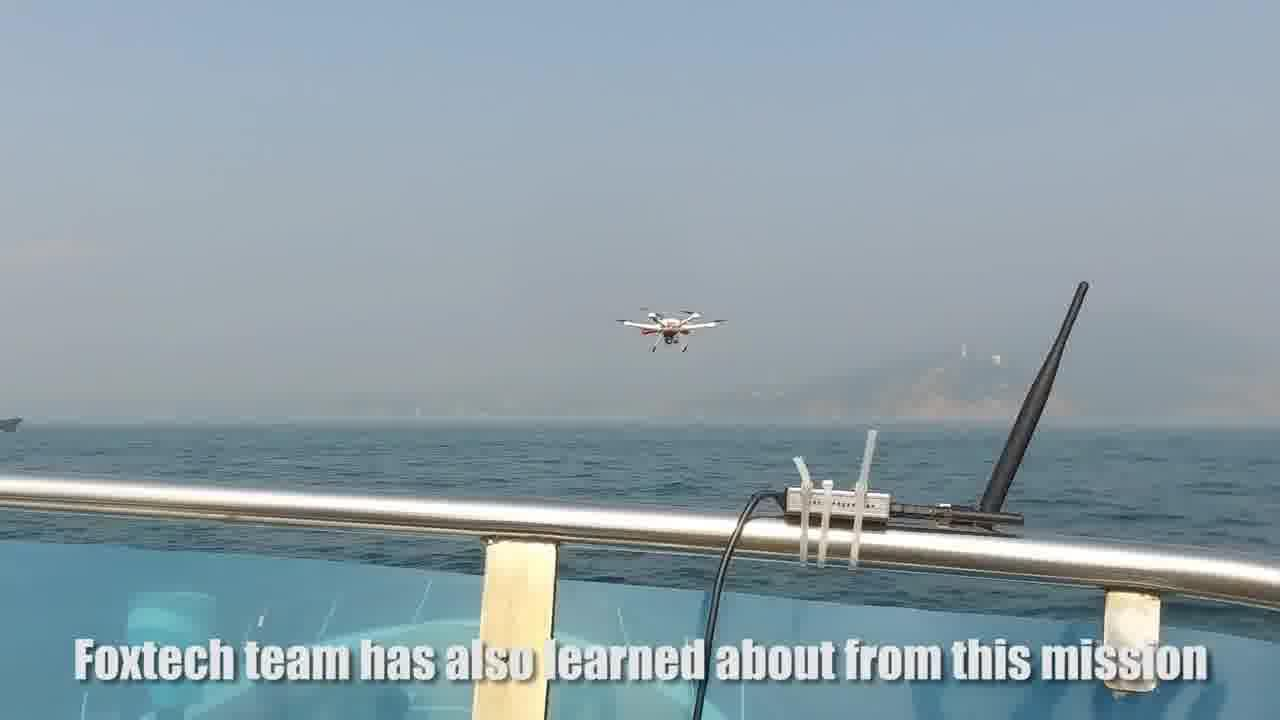drone: (615, 301, 727, 354)
